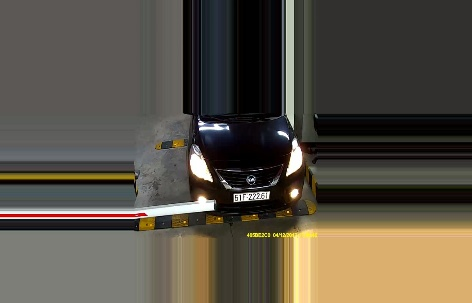plate: (231, 189, 271, 204)
